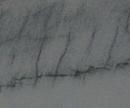fissura: (1, 53, 130, 98), (51, 34, 76, 78), (33, 30, 46, 80)
